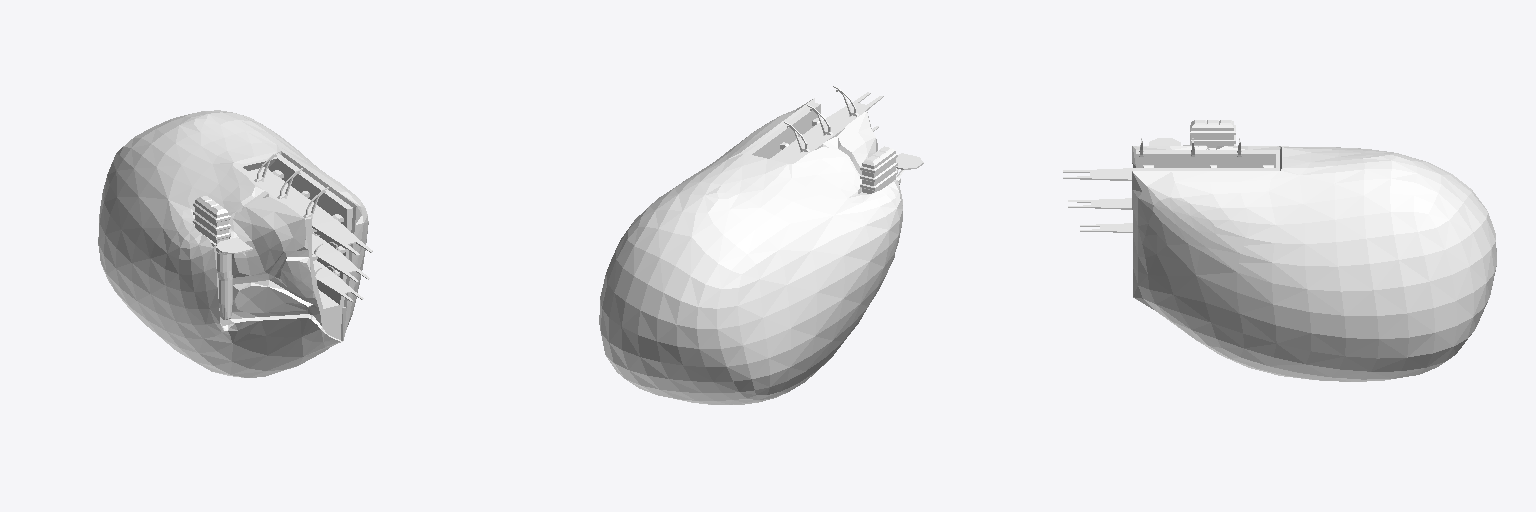
Rendered from Civilan_Asteroid_Shipyard.obj.
3 views of the same model, side by side, from view 1: azimuth 30°, elevation 25°; view 2: azimuth 150°, elevation 25°; view 3: azimuth 270°, elevation 25° (orthographic).
Visible parts, largest first — view 1: octotoad1_asteroid_as, octotoad1_immeuble2_i; view 2: octotoad1_asteroid_as, octotoad1_immeuble2_i; view 3: octotoad1_asteroid_as, octotoad1_immeuble2_i.
Boxes of the visible parts, x1,y1,x2,y2 form: octotoad1_asteroid_as: [98, 110, 368, 377]; octotoad1_immeuble2_i: [193, 151, 372, 319]; octotoad1_asteroid_as: [599, 98, 902, 404]; octotoad1_immeuble2_i: [770, 86, 923, 193]; octotoad1_asteroid_as: [1132, 145, 1496, 381]; octotoad1_immeuble2_i: [1063, 120, 1275, 232].
Size of the model in its own units: 15.58 by 16.69 by 27.7.